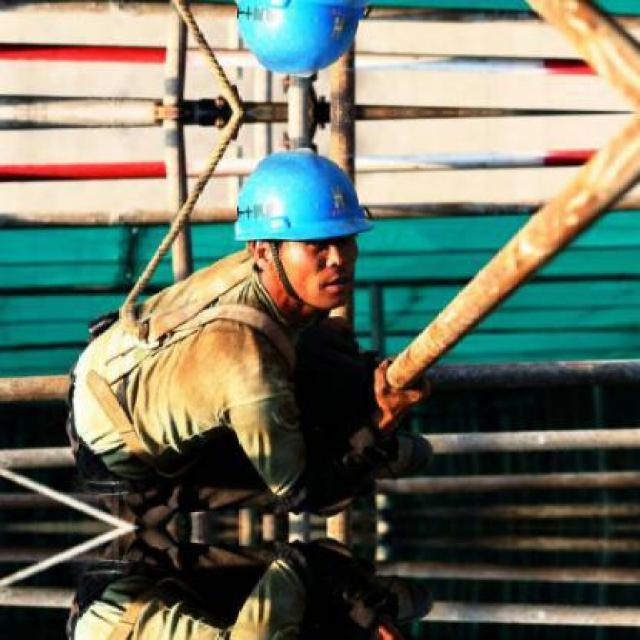safetyhelmet: (225, 144, 372, 286)
